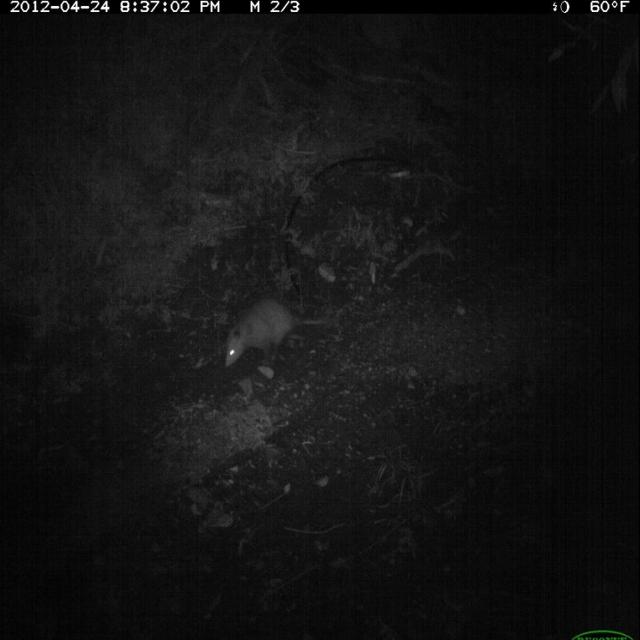opossum: (218, 290, 339, 379)
